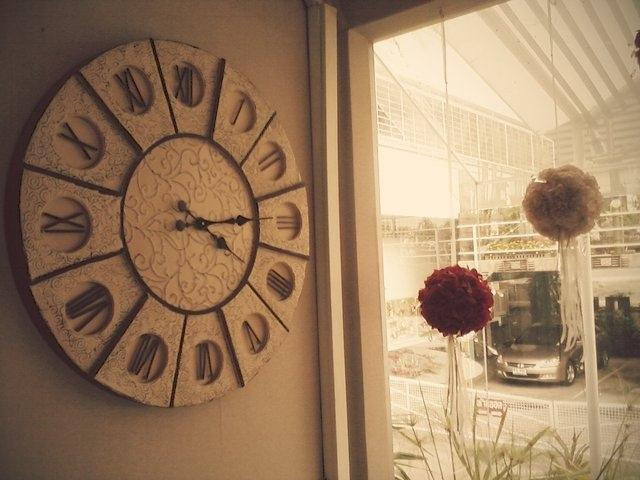car: (497, 320, 612, 384)
